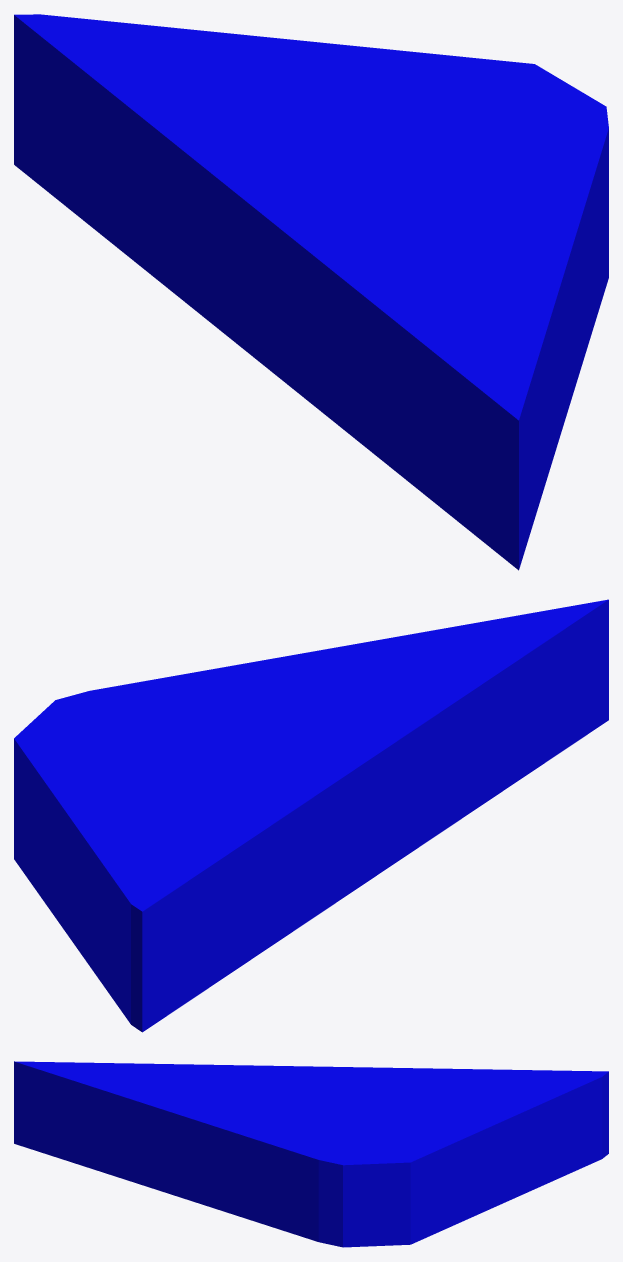
File: OnlyAngan_0.fbx
The picture shows the model from 3 angles, top to bottom: view 1: azimuth 30°, elevation 25°; view 2: azimuth 150°, elevation 25°; view 3: azimuth 270°, elevation 25°; orthographic projection. The views are drawn at different scales.
Parts seen in each view (by area): view 1: Footprint; view 2: Footprint; view 3: Footprint.
Part boxes in pixels (<box>): Footprint: <box>14,14,608,570</box>; Footprint: <box>14,599,608,1032</box>; Footprint: <box>14,1061,608,1247</box>.
Size of the model in its own units: 16.23 by 6 by 39.33.
